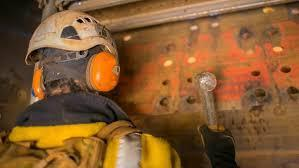Ear_protector: (88, 54, 121, 92), (28, 66, 48, 102)
Hard_hat: (14, 10, 124, 60)
